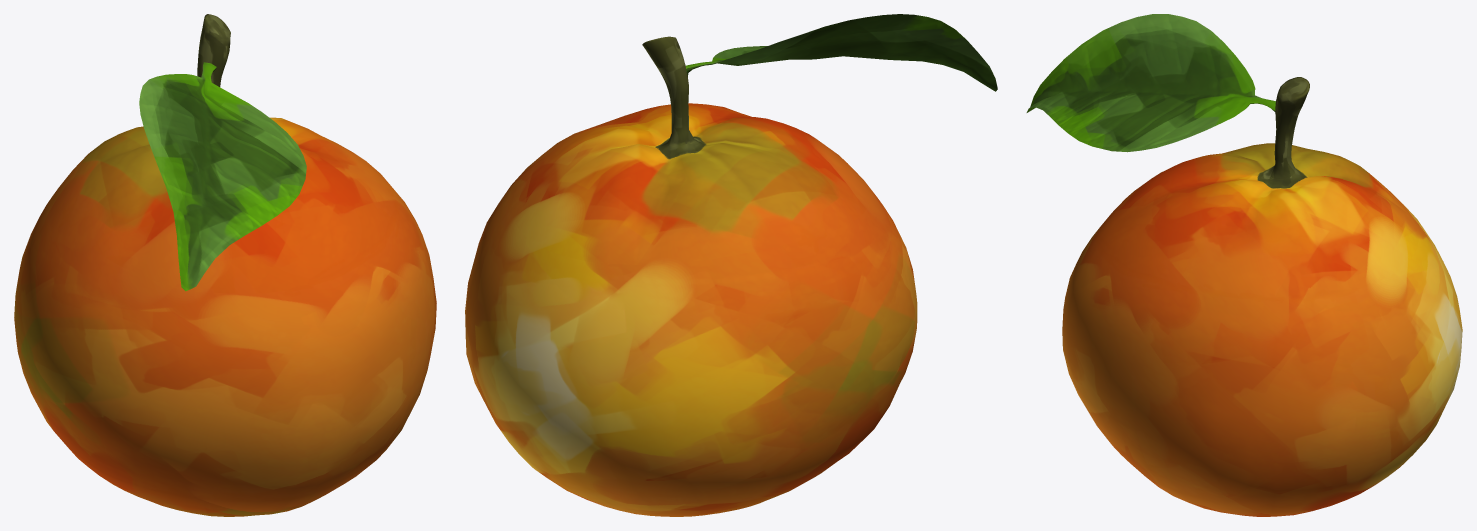
Rendered from orange.glb.
3 views of the same model, side by side, from view 1: azimuth 30°, elevation 25°; view 2: azimuth 150°, elevation 25°; view 3: azimuth 270°, elevation 25° (orthographic). The views are drawn at different scales.
Visible parts, largest first — view 1: node_id30; view 2: node_id30; view 3: node_id30.
Boxes of the visible parts, box(x1,y1,x2,y2) form: node_id30: box(14, 14, 436, 516); node_id30: box(465, 14, 997, 516); node_id30: box(1026, 14, 1462, 516).
Bounding box in the file's own units: 0.076 × 0.0899 × 0.0848.
Materials: 1 (1 with a texture image).
